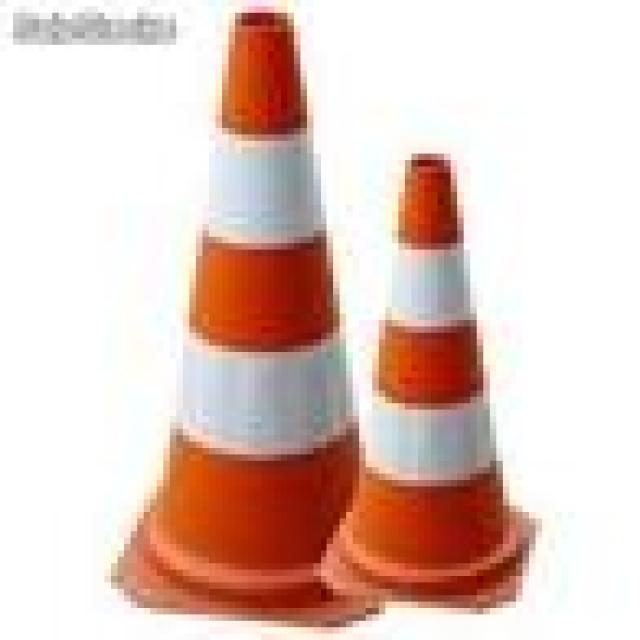cone: (126, 11, 367, 613), (354, 85, 534, 601)
